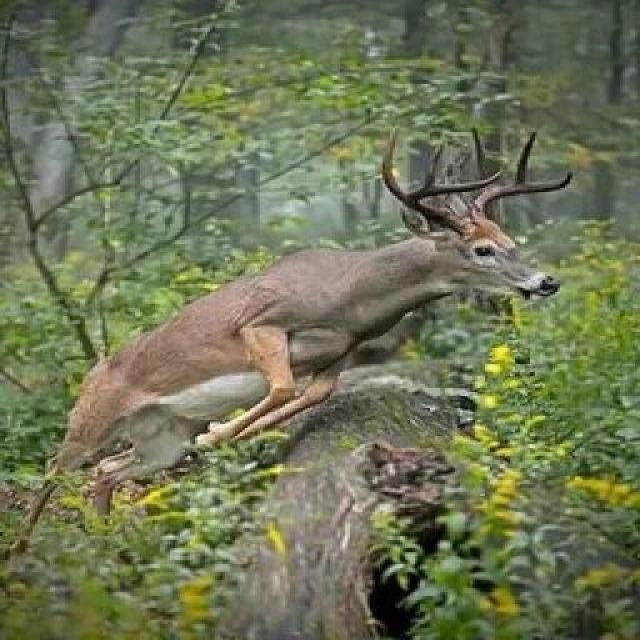deer: (131, 186, 571, 469)
